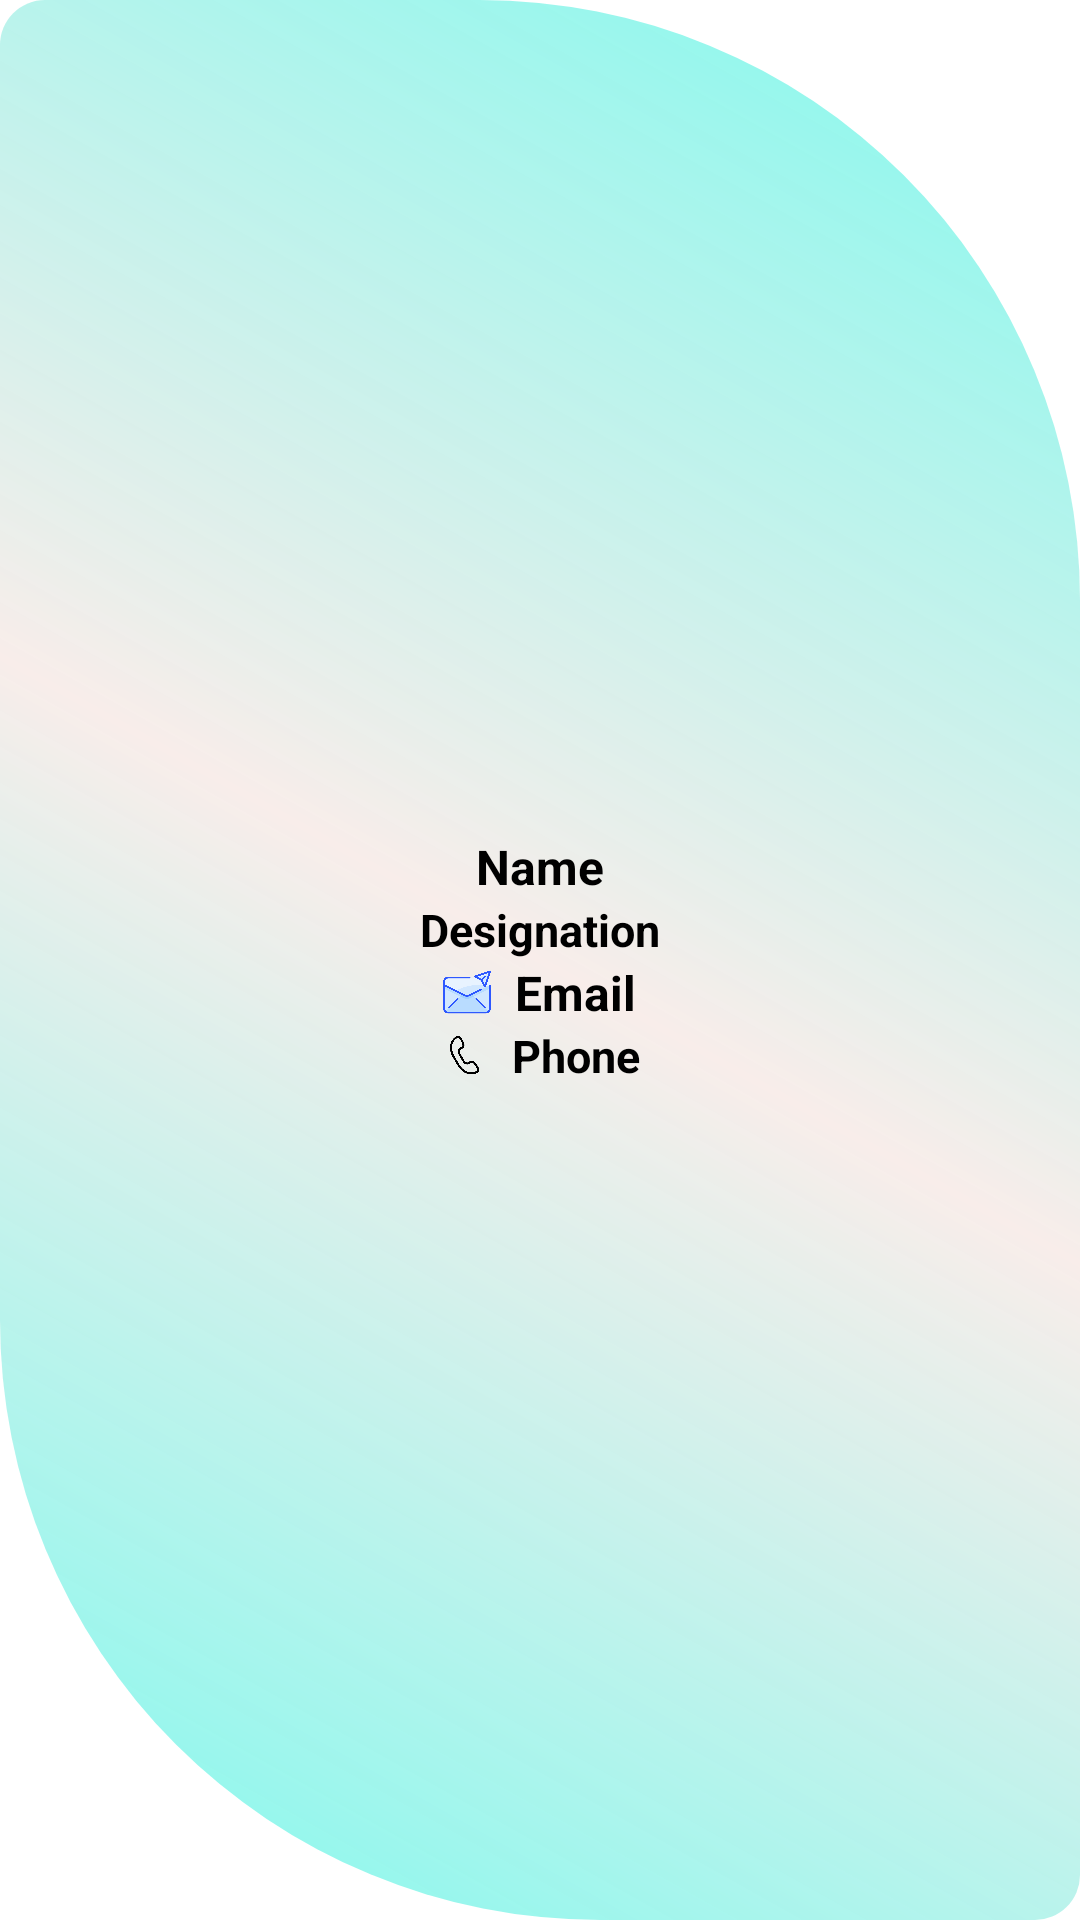

Screen size 1080w x 1920h. Icon name, then its center in pixels as (x,y):
contact: (464,1055)
